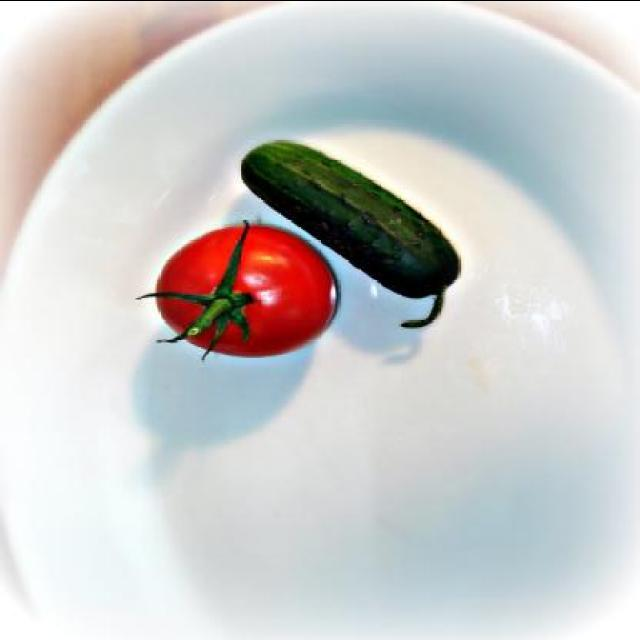Cucumber: (239, 138, 463, 330)
